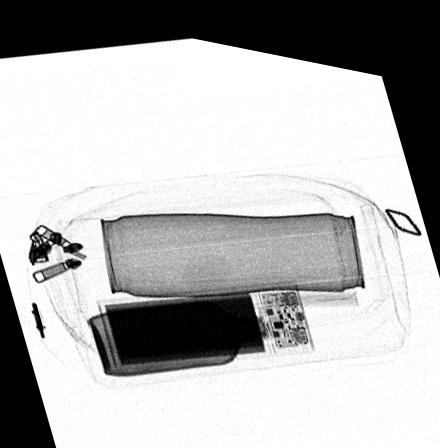Powerbank: (95, 267, 315, 363)
